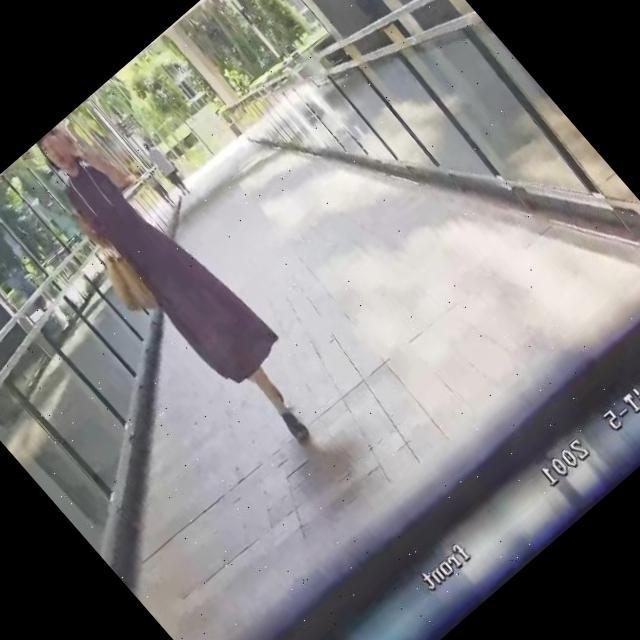person: (12, 106, 342, 467), (138, 136, 195, 200)
